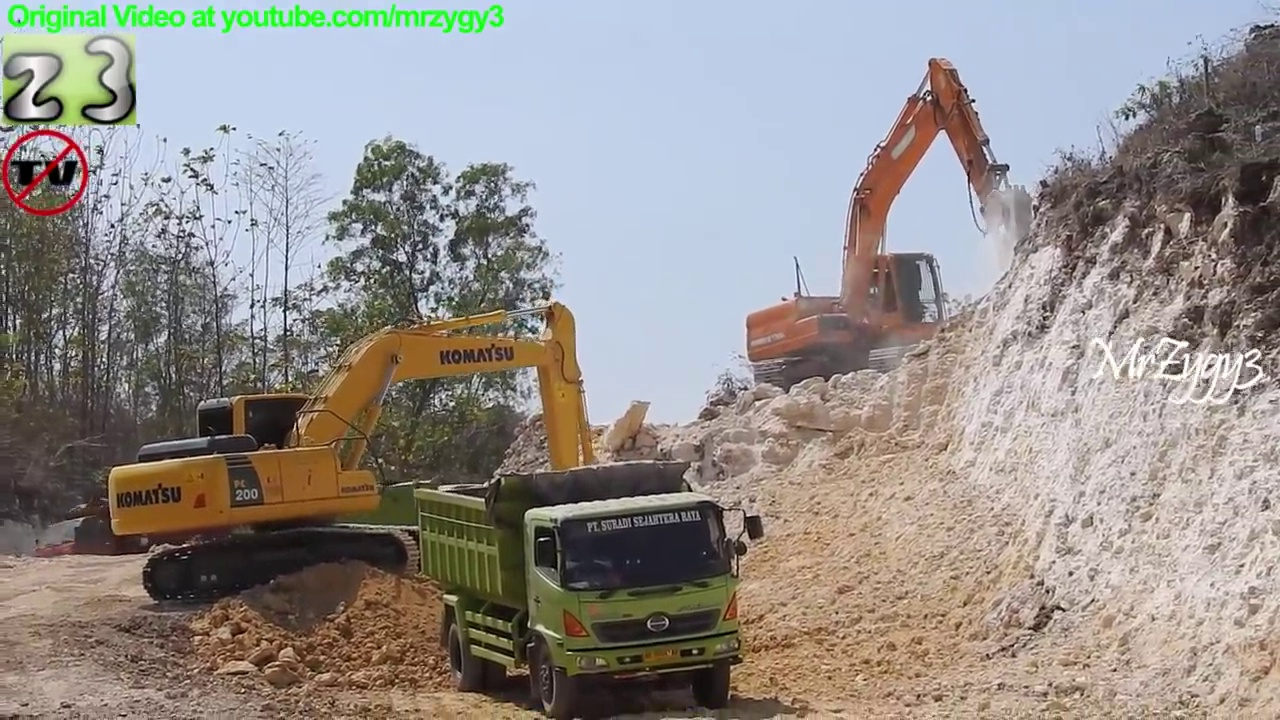excavator: (105, 298, 613, 619), (737, 52, 1043, 395)
truck: (409, 457, 770, 720)
